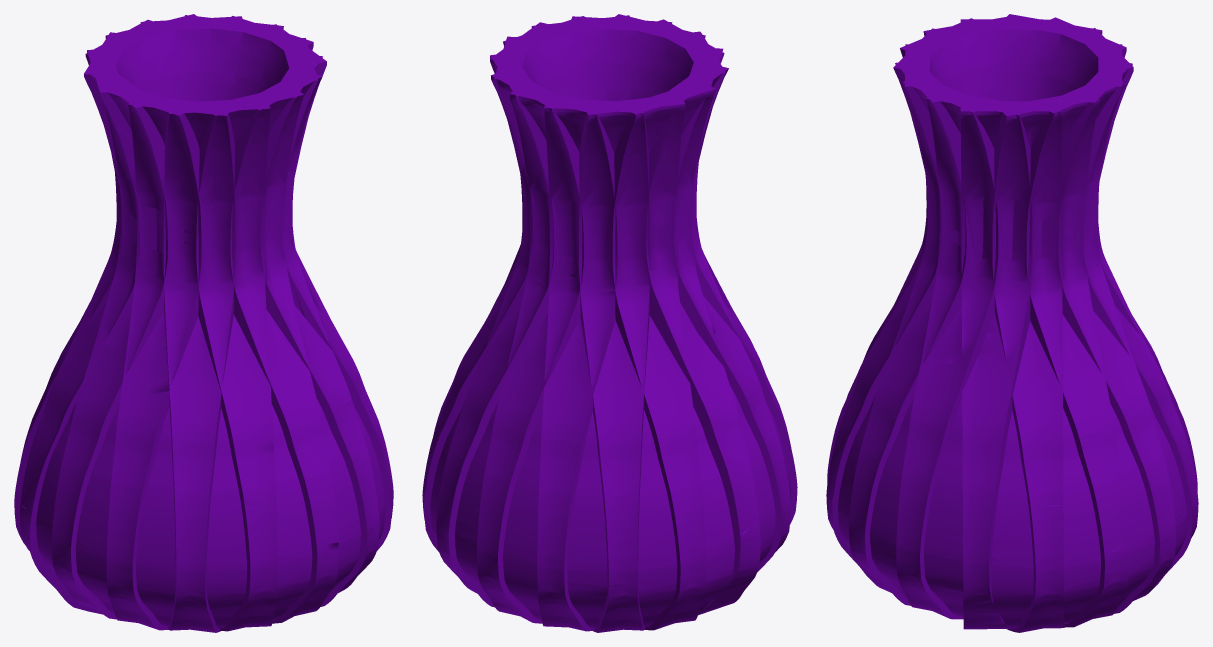
File: vase.fbx
3 renders of one model, left to right at view 1: azimuth 30°, elevation 25°; view 2: azimuth 150°, elevation 25°; view 3: azimuth 270°, elevation 25°, orthographic.
Visible parts, largest first — view 1: Object_0.001; view 2: Object_0.001; view 3: Object_0.001.
Boxes of the visible parts, x1,y1,x2,y2 form: Object_0.001: [14, 14, 393, 632]; Object_0.001: [422, 14, 797, 632]; Object_0.001: [826, 14, 1198, 632].
Size of the model in its own units: 31.84 by 49.53 by 31.84.
